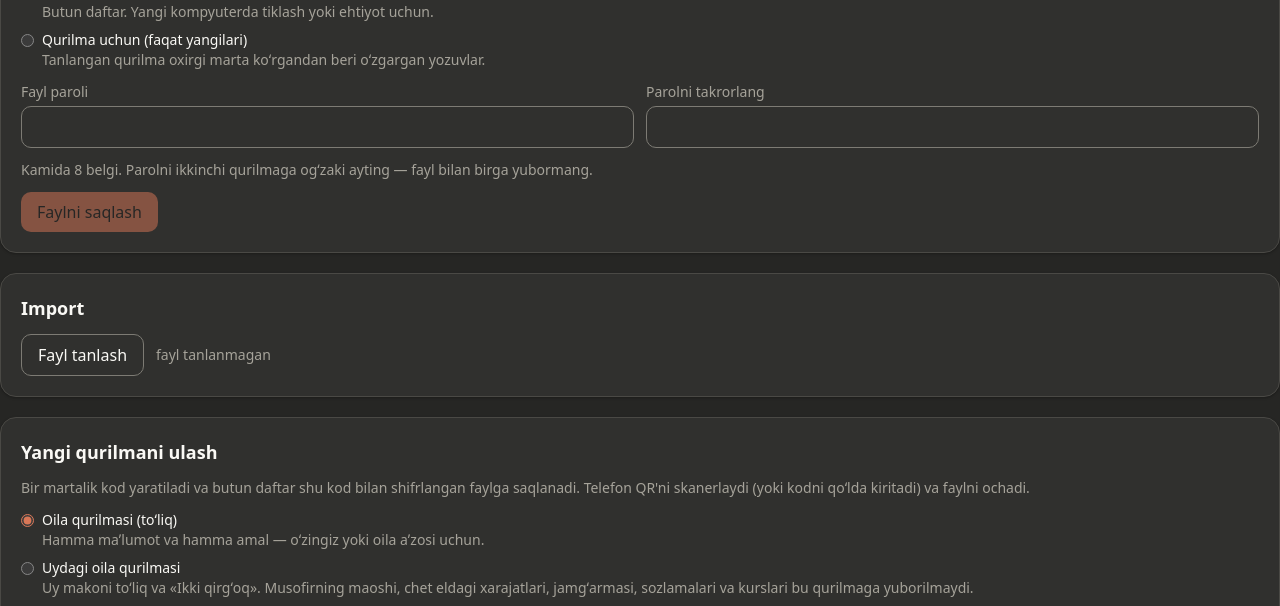
it: SyncScreen › ayrilishda import to'xtaydi
(page scrolled)
Click the button "Fayl tanlash": (82, 355) [21,334,144,376]
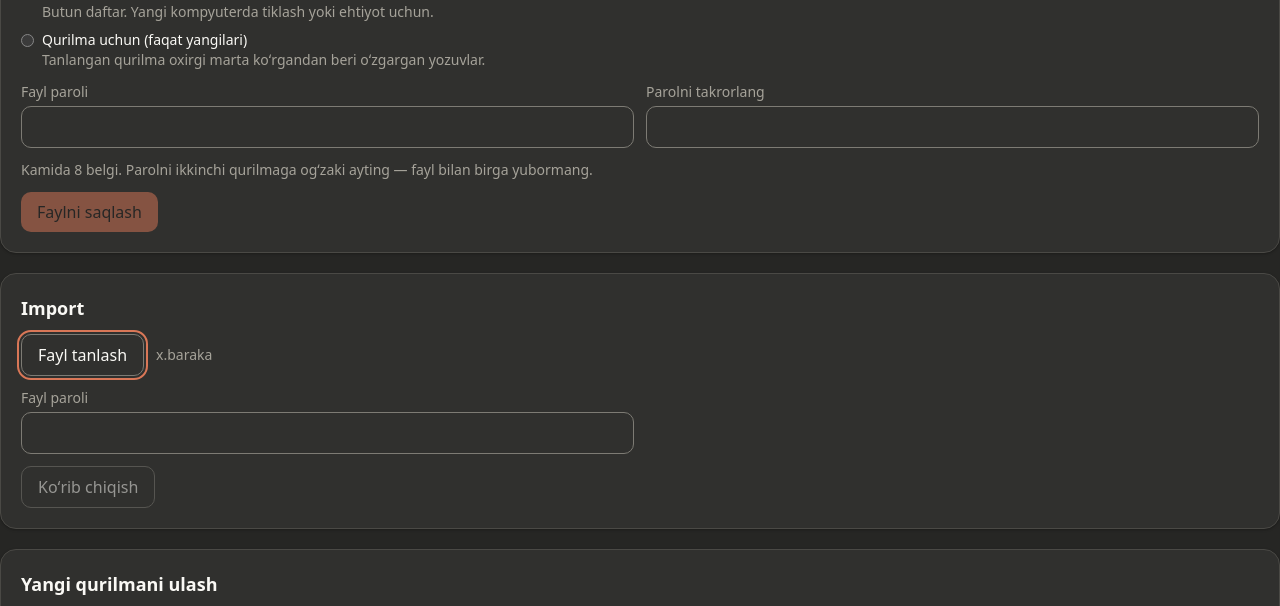
In the password field labelled "Fayl paroli" below "x.baraka": (328, 433) [21,412,634,454], type "x"
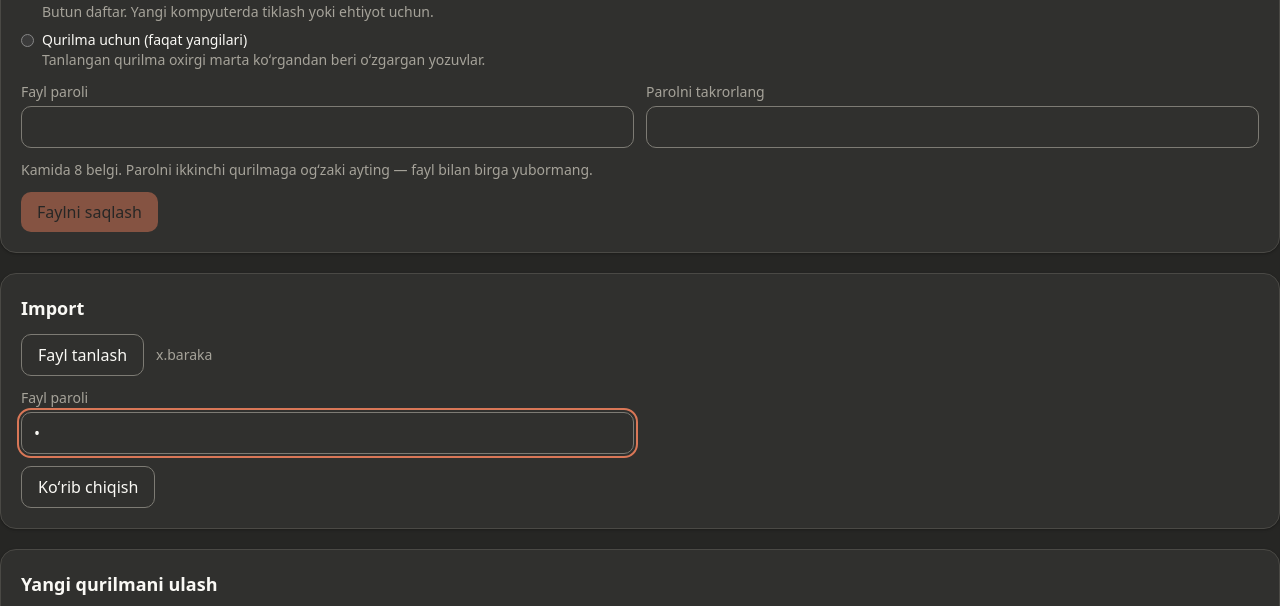
Click the button "Koʻrib chiqish": (88, 487) [21,466,155,508]
(page scrolled)
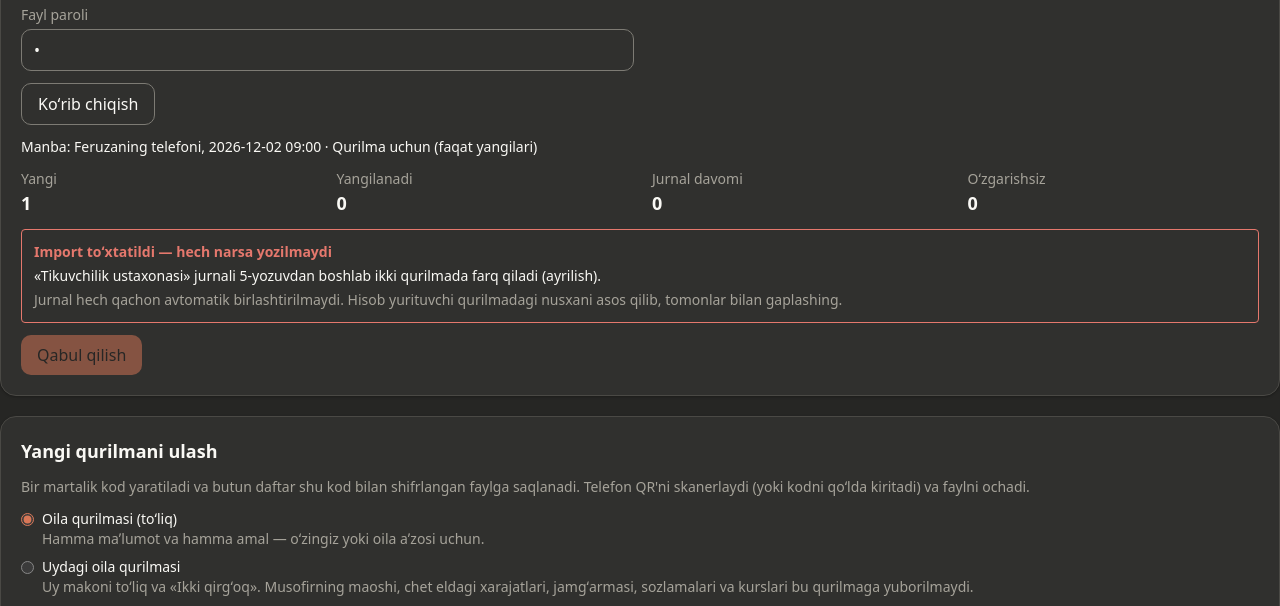
Result: the message shows "«Tikuvchilik ustaxonasi» jurnali 5-yozuvdan boshlab" at [34,266,601,285]
Result: the button "Qabul qilish" is disabled at [21,335,142,375]
